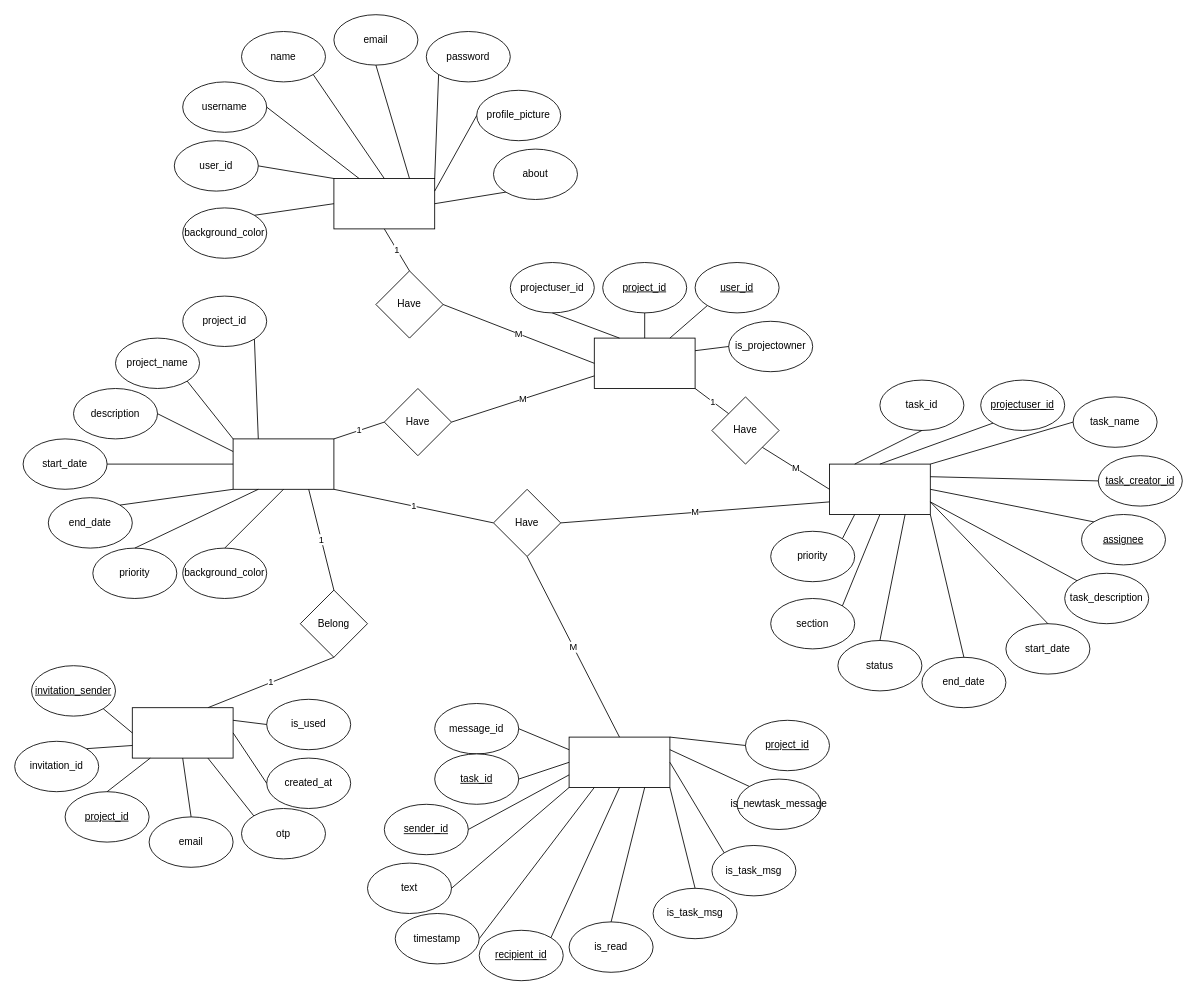
Image size: 1197x995. Some labels were removed from this diagram. The shapes that lost their labels are listed below. From the top down, each one's box as (x1, y1, x2, y2) in pixels, then its label:
(333, 178, 435, 229): Users
(593, 337, 695, 388): ProjectUsers
(232, 438, 334, 489): Projects
(829, 463, 930, 514): Task
(131, 707, 233, 758): ProjectInvitations
(568, 736, 670, 788): Message
